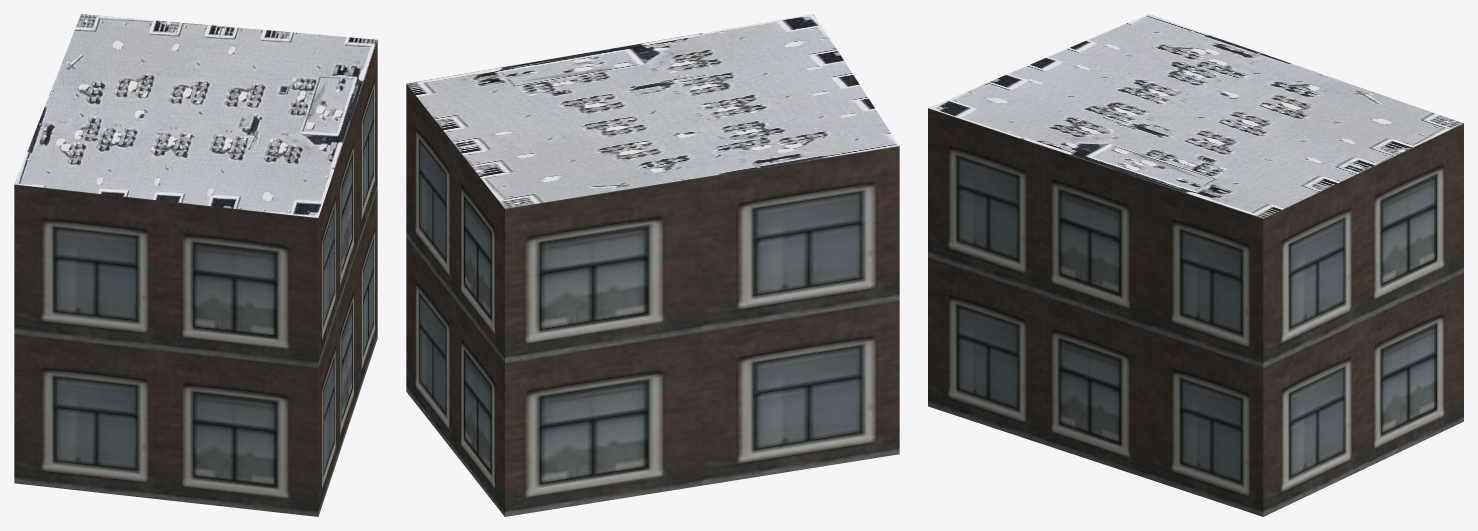
Rendered from ResTex__4276.fbx.
3 renders of one model, left to right at view 1: azimuth 30°, elevation 25°; view 2: azimuth 150°, elevation 25°; view 3: azimuth 270°, elevation 25°, orthographic. The views are drawn at different scales.
Visible parts, largest first — view 1: CityEngineMaterial_16_m, CityEngineMaterial_15_m; view 2: CityEngineMaterial_16_m, CityEngineMaterial_15_m; view 3: CityEngineMaterial_16_m, CityEngineMaterial_15_m.
Boxes of the visible parts, x1,y1,x2,y2 form: CityEngineMaterial_16_m: [14, 40, 377, 516]; CityEngineMaterial_15_m: [14, 14, 377, 217]; CityEngineMaterial_16_m: [406, 84, 899, 516]; CityEngineMaterial_15_m: [407, 14, 898, 208]; CityEngineMaterial_16_m: [928, 108, 1463, 516]; CityEngineMaterial_15_m: [928, 14, 1463, 218].
Size of the model in its own units: 8.84 by 6 by 9.77.
2 materials, 2 textured.
